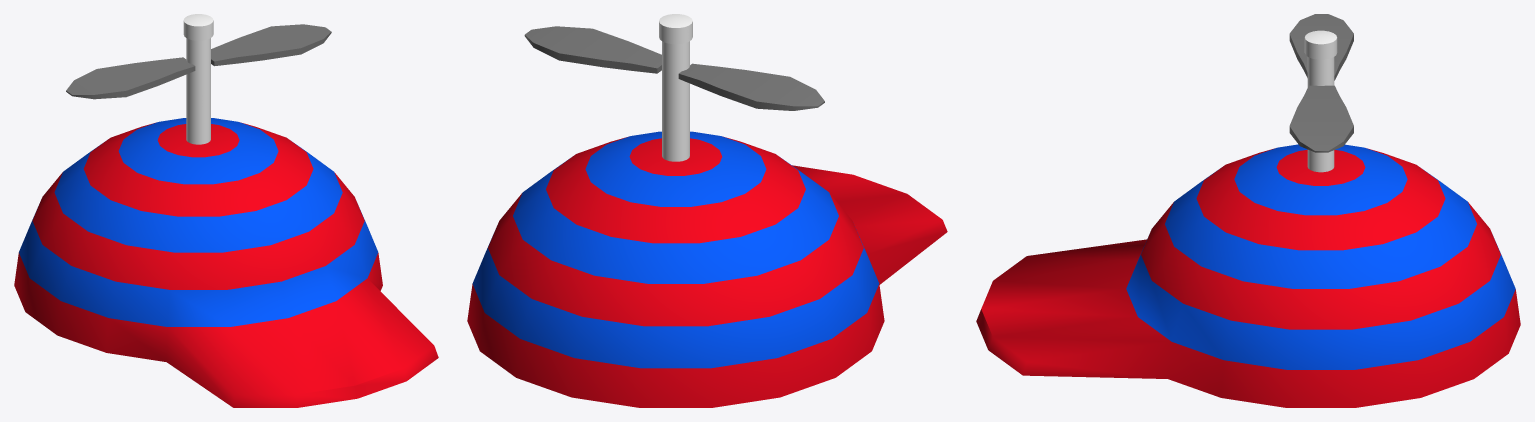
Rendered from BoneCoptero.fbx.
The picture shows the model from 3 angles, left to right: view 1: azimuth 30°, elevation 25°; view 2: azimuth 150°, elevation 25°; view 3: azimuth 270°, elevation 25°; orthographic projection. The views are drawn at different scales.
Parts seen in each view (by area): view 1: BoneCoptero; view 2: BoneCoptero; view 3: BoneCoptero.
Part boxes in pixels (<box>): BoneCoptero: <box>14,14,438,407</box>; BoneCoptero: <box>467,14,947,407</box>; BoneCoptero: <box>976,14,1520,407</box>.
Size of the model in its own units: 221 by 180 by 306.
